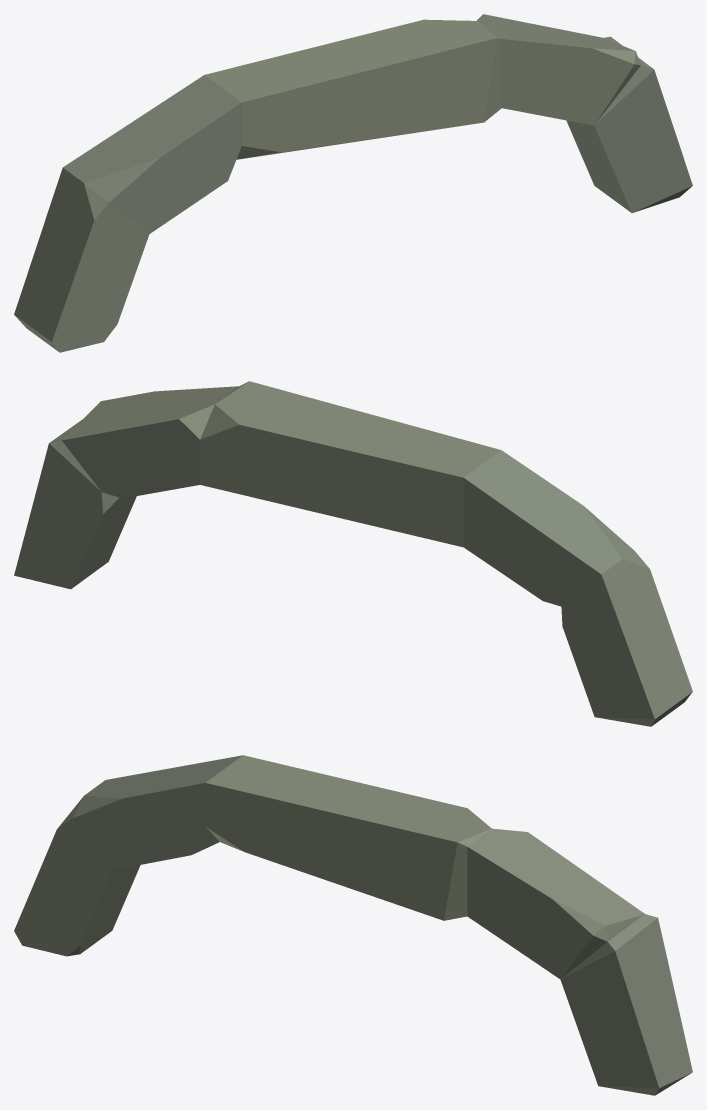
File: door_arch_double_tiny.fbx
3 views of the same model, one above another, from view 1: azimuth 30°, elevation 25°; view 2: azimuth 150°, elevation 25°; view 3: azimuth 330°, elevation 25° (orthographic).
Visible parts, largest first — view 1: door_arch_double_tiny; view 2: door_arch_double_tiny; view 3: door_arch_double_tiny.
Part boxes in pixels (x1,y1,x2,y2): door_arch_double_tiny: (14, 14, 692, 352); door_arch_double_tiny: (14, 381, 692, 726); door_arch_double_tiny: (14, 755, 692, 1095).
Bounding box in the file's own units: 247 × 77.44 × 29.38.
